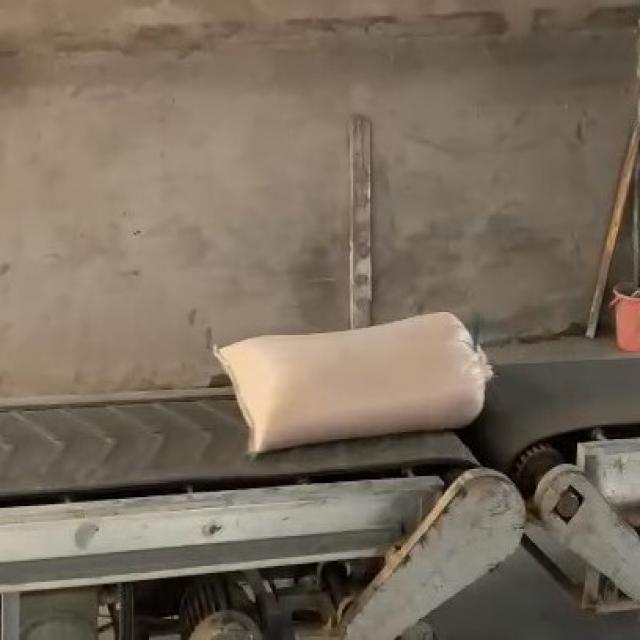gunny_bag: (215, 312, 494, 452)
